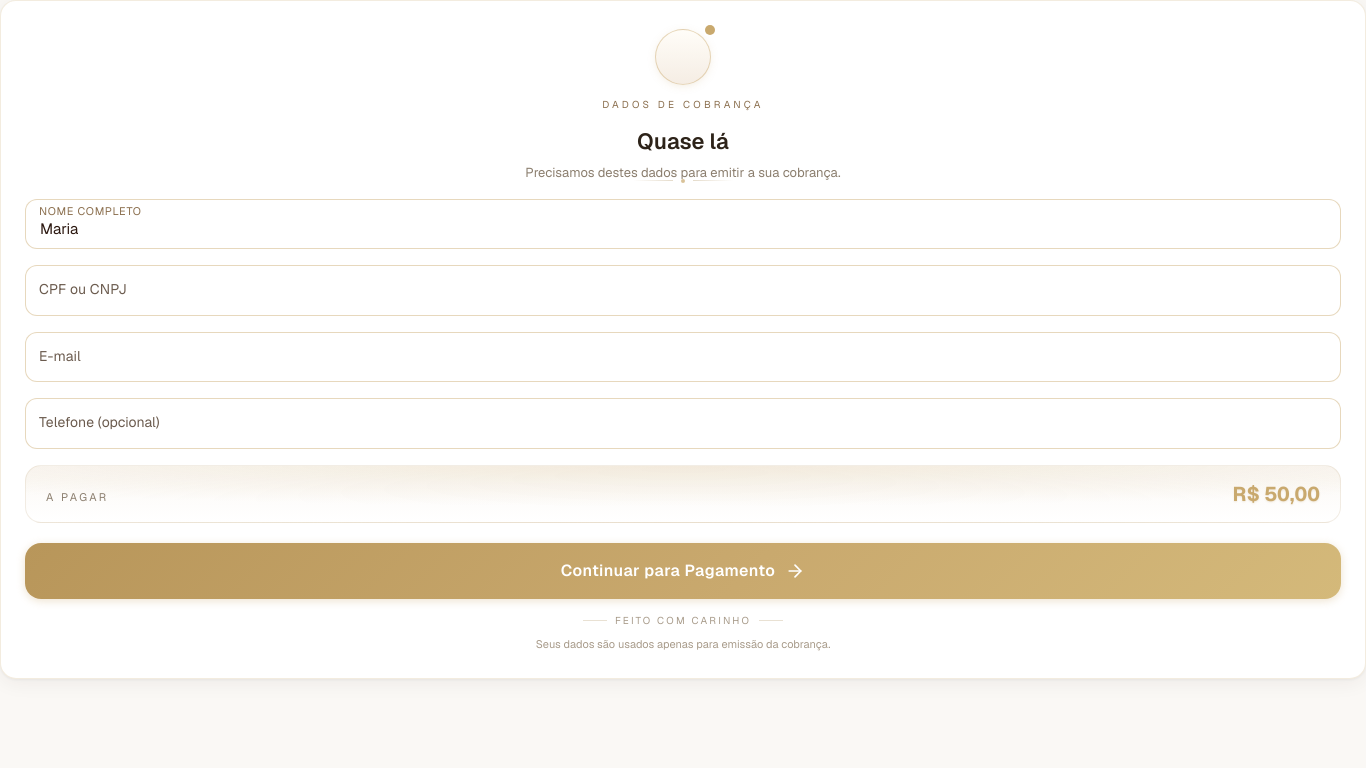
Scenario: PublicBillingForm › shows alert when API responds with an error
Type "52998224725" into the field labelled "CPF ou CNPJ". click: [683, 290]
box: top-left (25, 265), bottom-right (1341, 316)
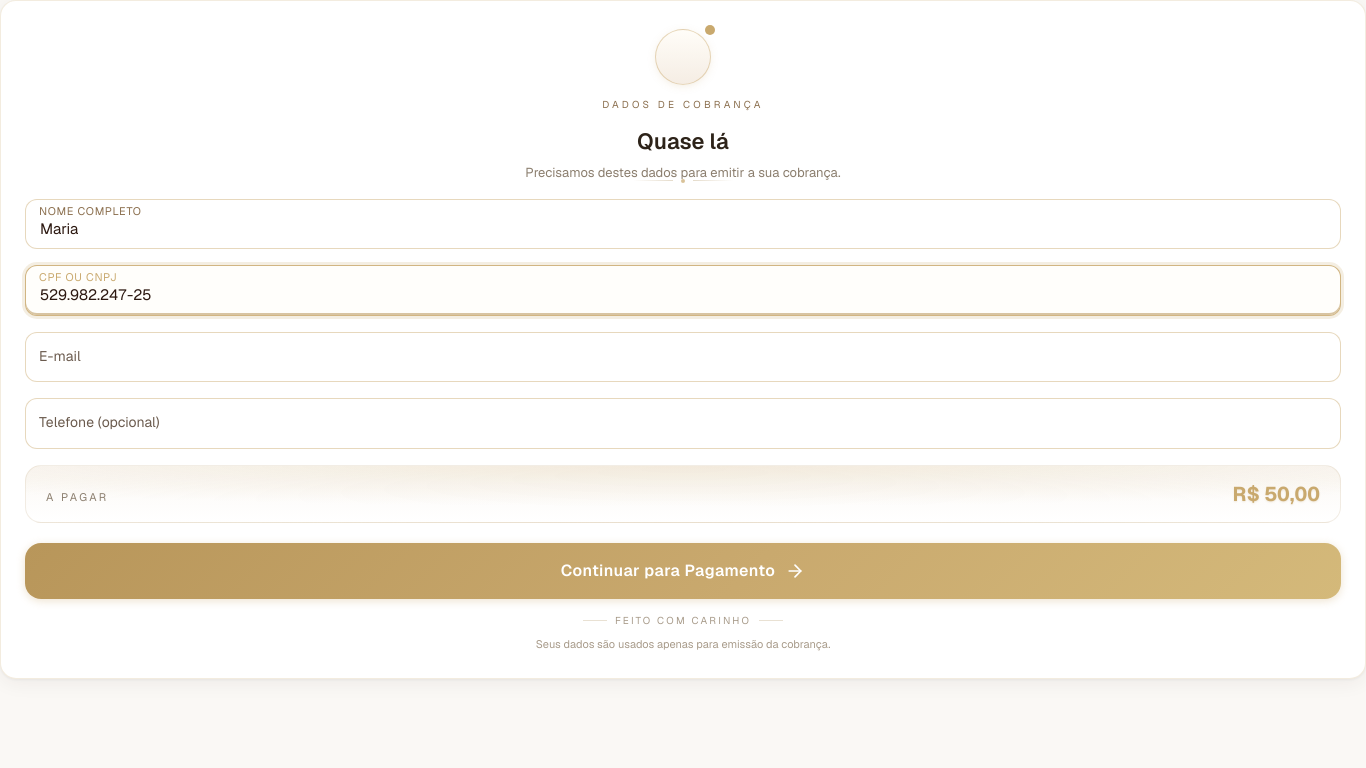
Type "maria@example.com" into the field labelled "E-mail". click: [683, 357]
box: top-left (25, 332), bottom-right (1341, 382)
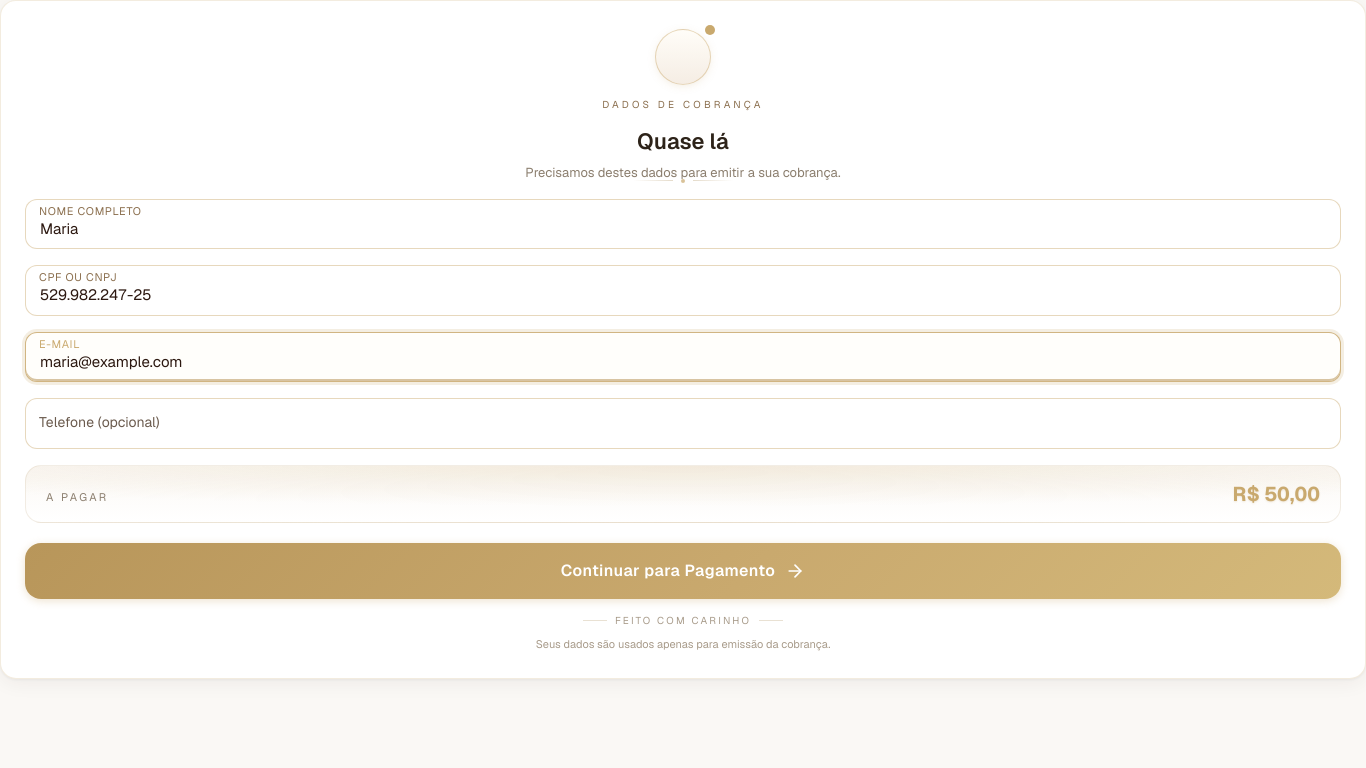
Click the button "Continuar para Pagamento". click: [683, 571]
box: top-left (25, 543), bottom-right (1341, 599)
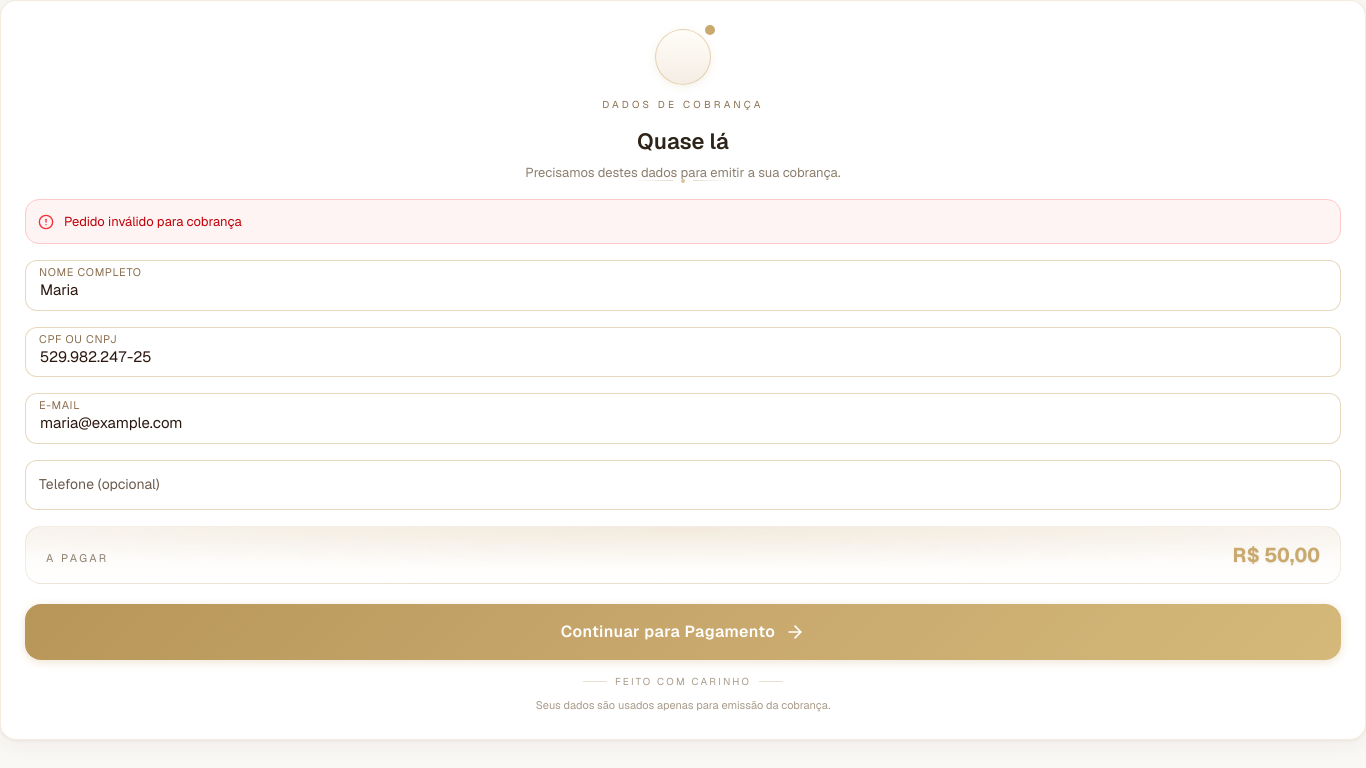
Expected: the text "Pedido inválido para cobrança" is shown, top-left (64, 212), bottom-right (242, 231)
